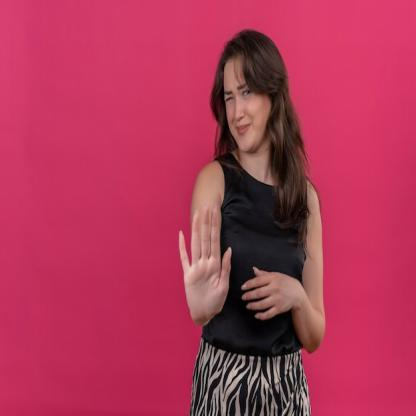stop: (176, 202, 236, 324)
